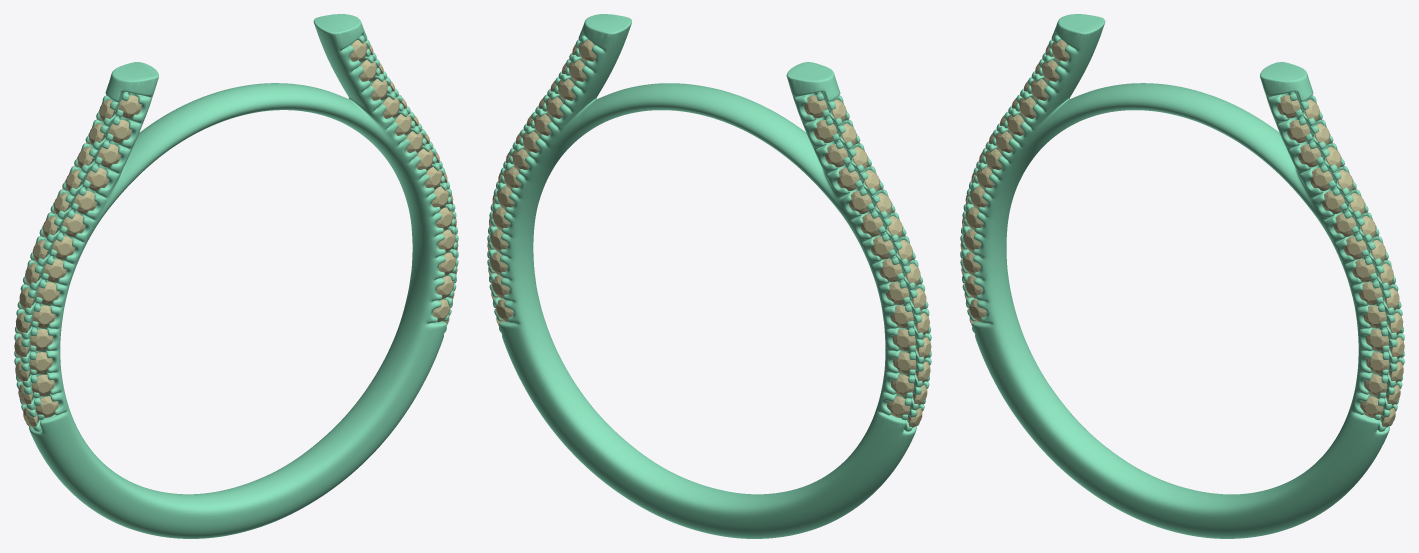
The picture shows the model from 3 angles, left to right: view 1: azimuth 30°, elevation 25°; view 2: azimuth 150°, elevation 25°; view 3: azimuth 330°, elevation 25°; orthographic projection.
Parts seen in each view (by area): view 1: Metal02; view 2: Metal02; view 3: Metal02.
Boxes of the visible parts, x1=… form: Metal02: x1=14, y1=14, x2=458, y2=538; Metal02: x1=487, y1=14, x2=931, y2=538; Metal02: x1=960, y1=14, x2=1404, y2=538.
Bounding box in the file's own units: 20.89 × 22.08 × 1.84.
